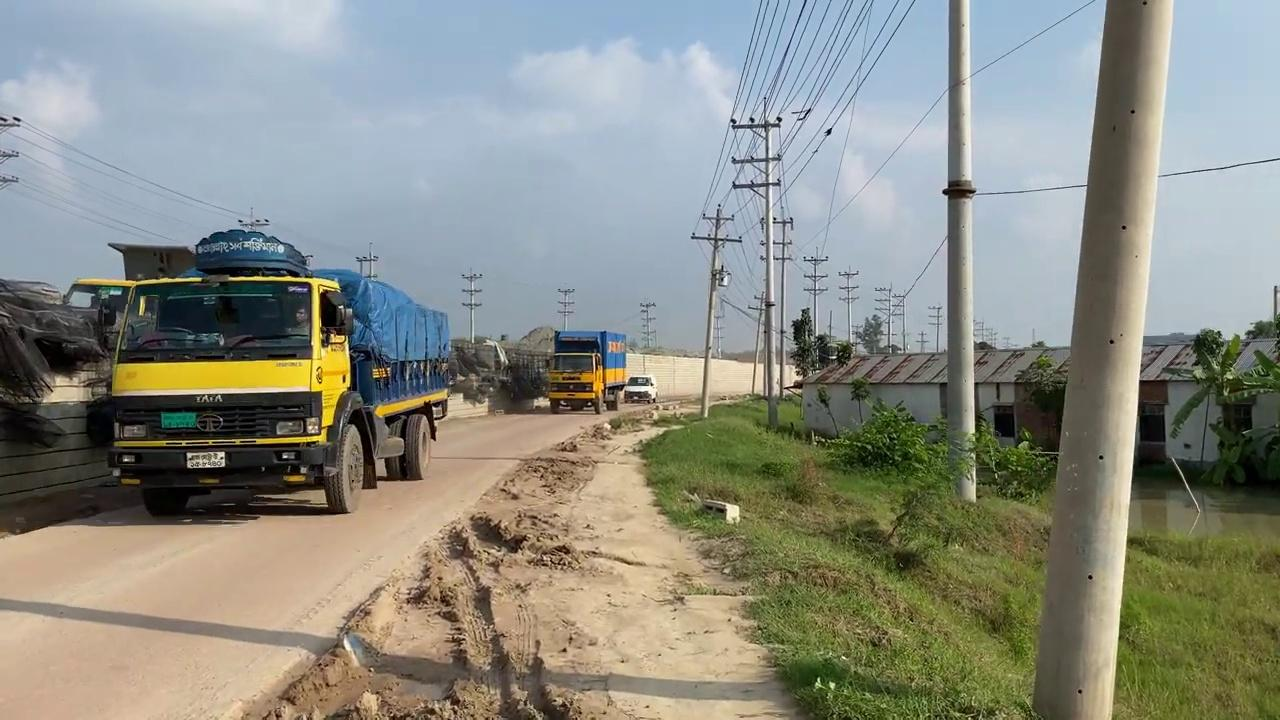Car: (622, 374, 657, 403)
Muddy road: (1, 392, 618, 718)
Pole: (1031, 0, 1174, 718), (944, 0, 977, 503)
Tree: (76, 217, 454, 516), (63, 241, 200, 350), (546, 329, 626, 413), (505, 350, 550, 401)
